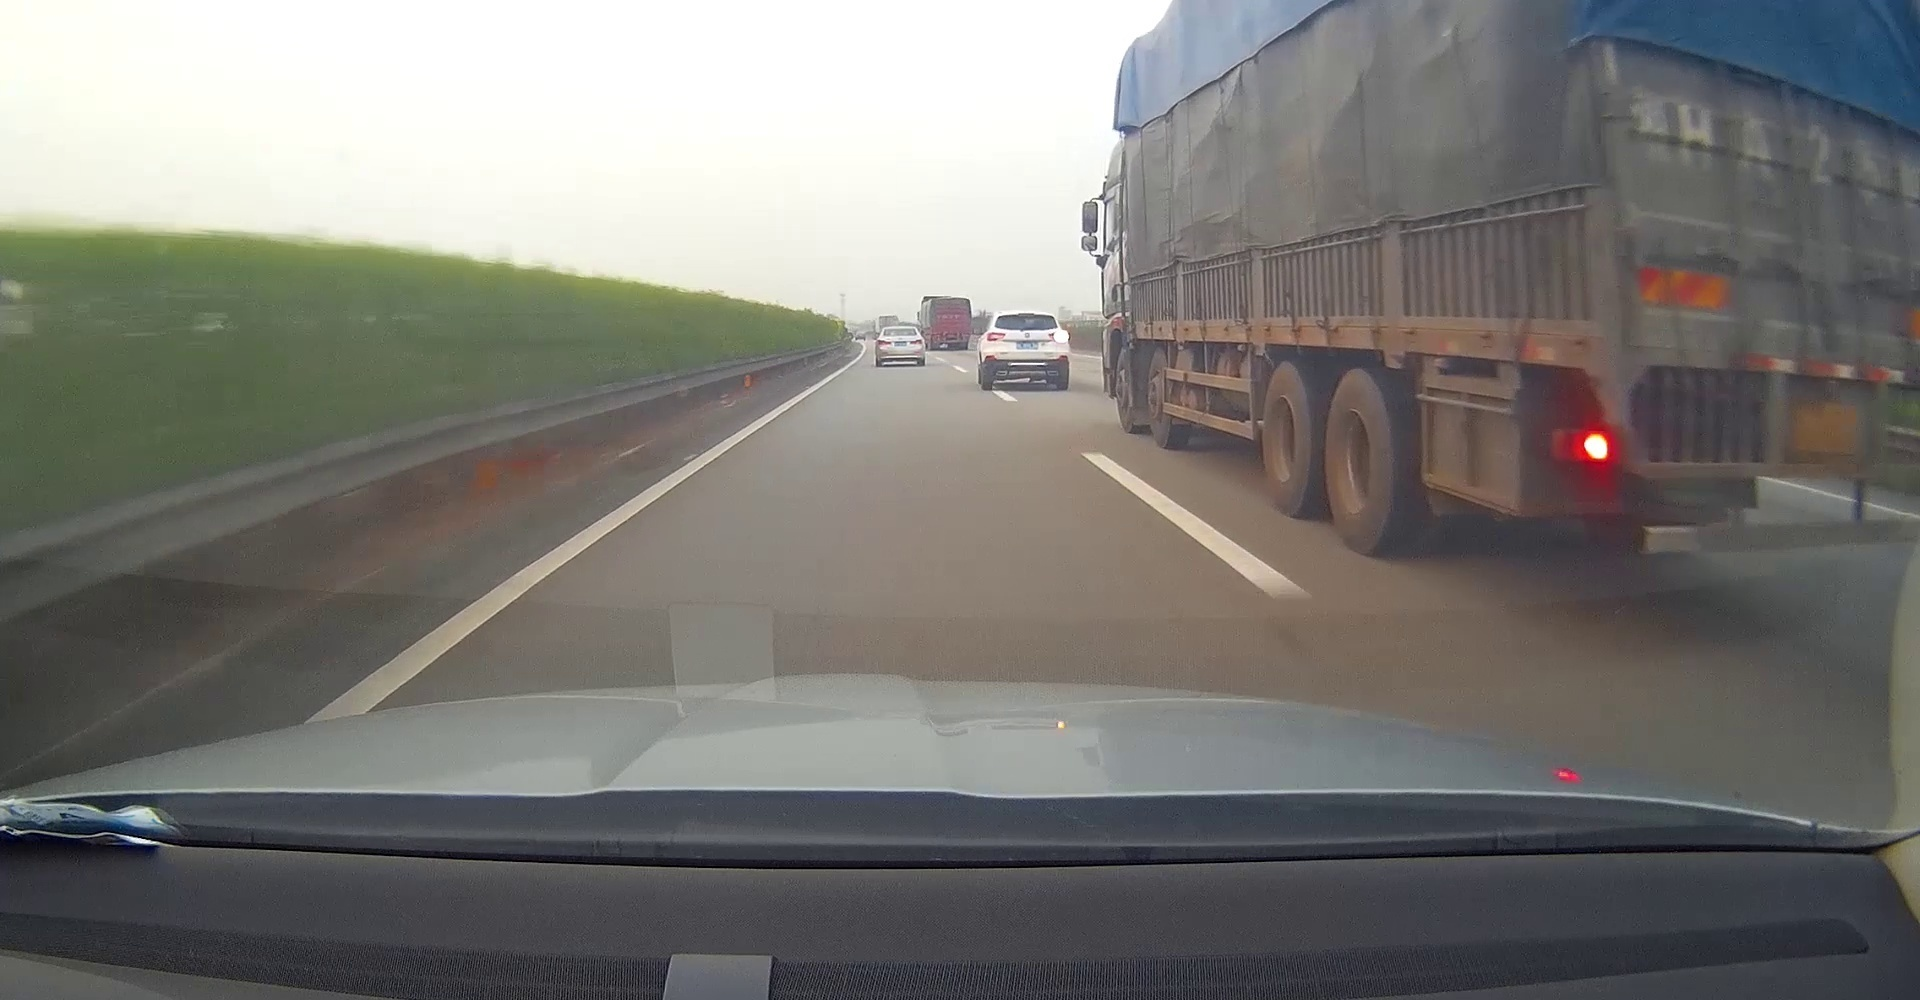L_light: (985, 332, 1006, 341), (877, 340, 891, 346), (935, 334, 941, 338)
R_light: (1048, 330, 1069, 341), (910, 339, 923, 345), (963, 332, 969, 336)
T_light: (1017, 313, 1034, 317), (897, 327, 905, 330), (950, 330, 956, 332)
day-no: (930, 298, 971, 352), (876, 326, 924, 367)
day-right: (984, 311, 1070, 390)
